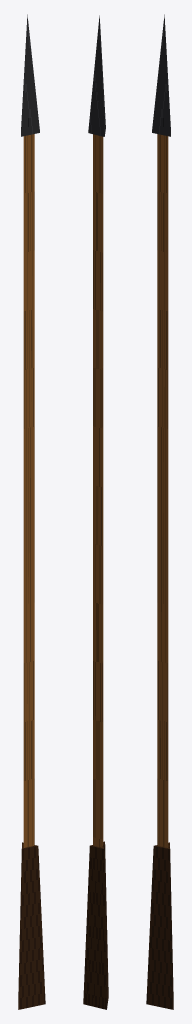
Rendered from comun.glb.
3 views of the same model, side by side, from view 1: azimuth 90°, elevation 25°; view 2: azimuth 150°, elevation 25°; view 3: azimuth 270°, elevation 25° (orthographic).
Visible parts, largest first — view 1: astil, plumas, punta; view 2: astil, plumas, punta; view 3: astil, plumas, punta.
Part boxes in pixels (box(x1,y1,x2,y2)): astil: box(23, 134, 34, 847); plumas: box(18, 842, 45, 1009); punta: box(21, 14, 39, 136); astil: box(93, 134, 103, 847); plumas: box(83, 841, 108, 1009); punta: box(88, 15, 105, 136); astil: box(157, 134, 168, 847); plumas: box(146, 842, 173, 1009); punta: box(152, 14, 170, 136).
Bounding box in the file's own units: 0.02 × 0.8 × 0.02.
1 material, 1 textured.
